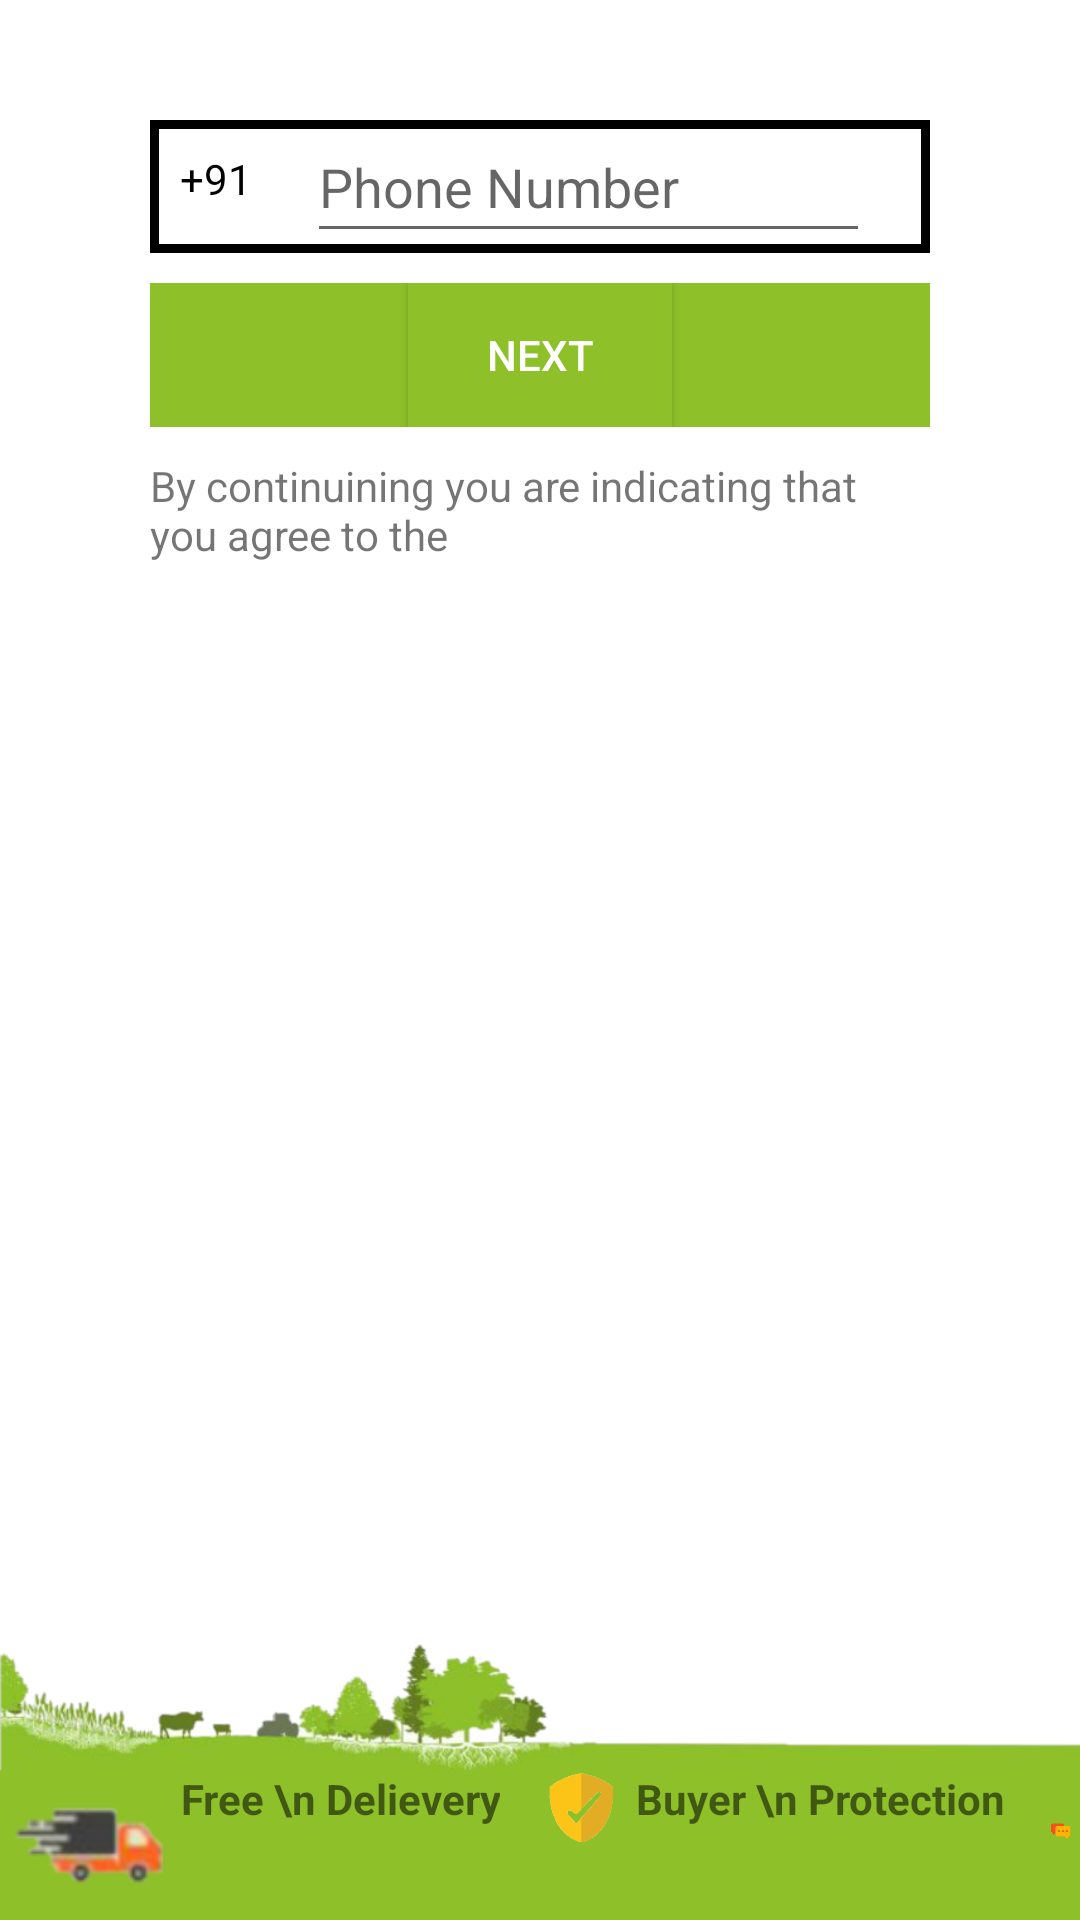

Where icons sit on this 1080px x 1920px app screen, as (x1, y1, x2, y2):
freedelievery: (15, 1808, 163, 1882)
security: (549, 1773, 613, 1842)
